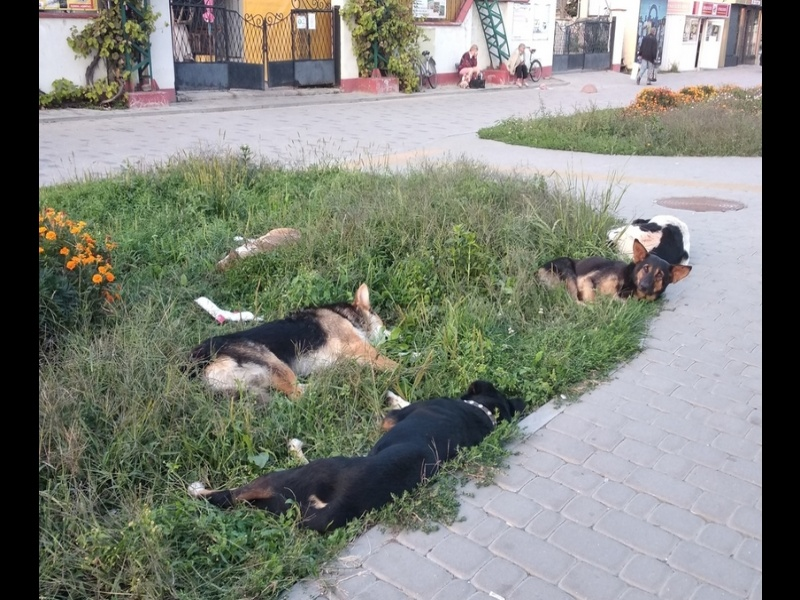dog: (185, 373, 522, 538), (176, 279, 400, 418), (537, 244, 688, 305)
human: (633, 25, 662, 87), (457, 44, 482, 93), (507, 44, 533, 91)
human legs: (633, 57, 659, 85)
